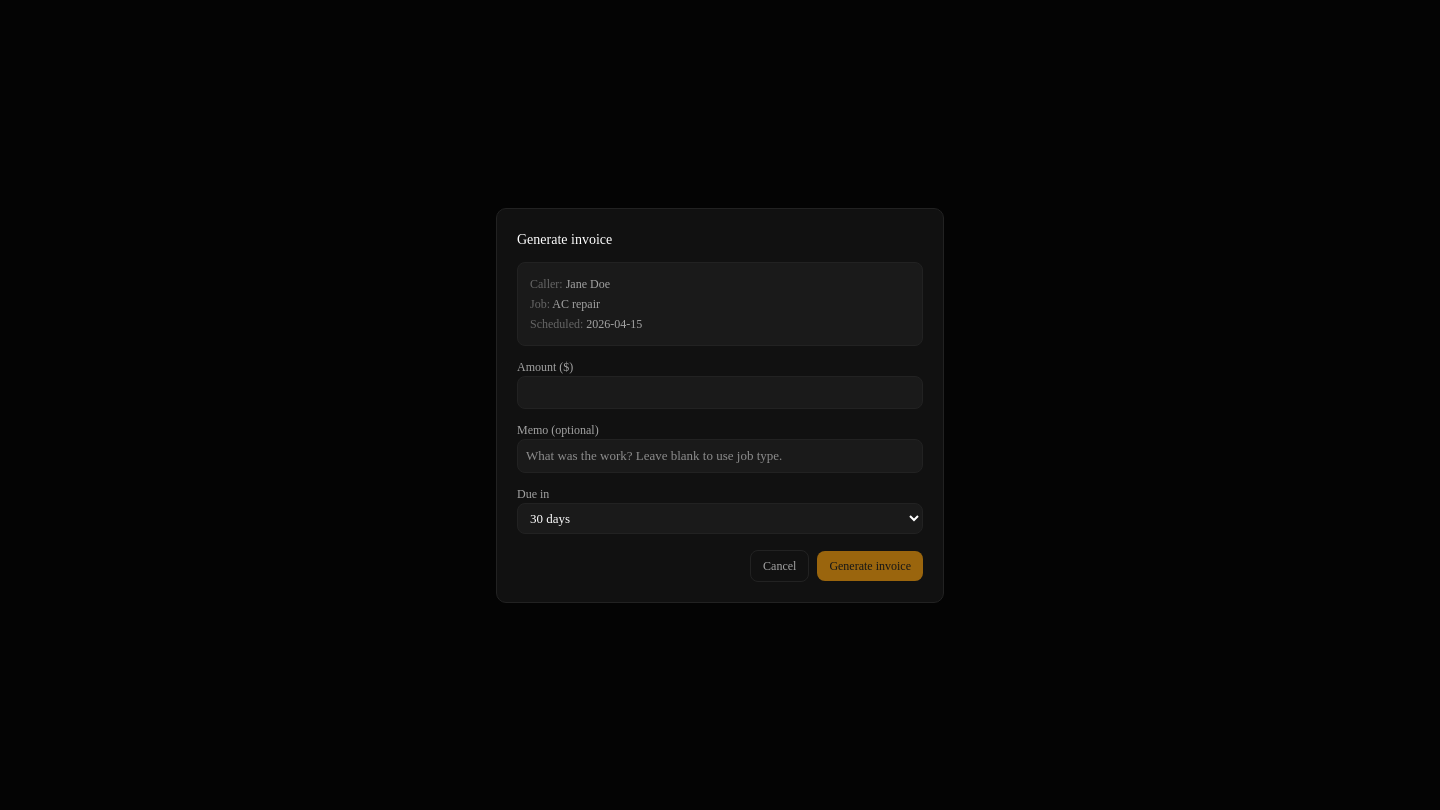
Test: InvoiceModal › shows inline error when bridge returns non-200 and no em dash
Type "100" into the number field labelled "Amount ($)".
click(720, 392); type("100")  # box [517,376,923,409]
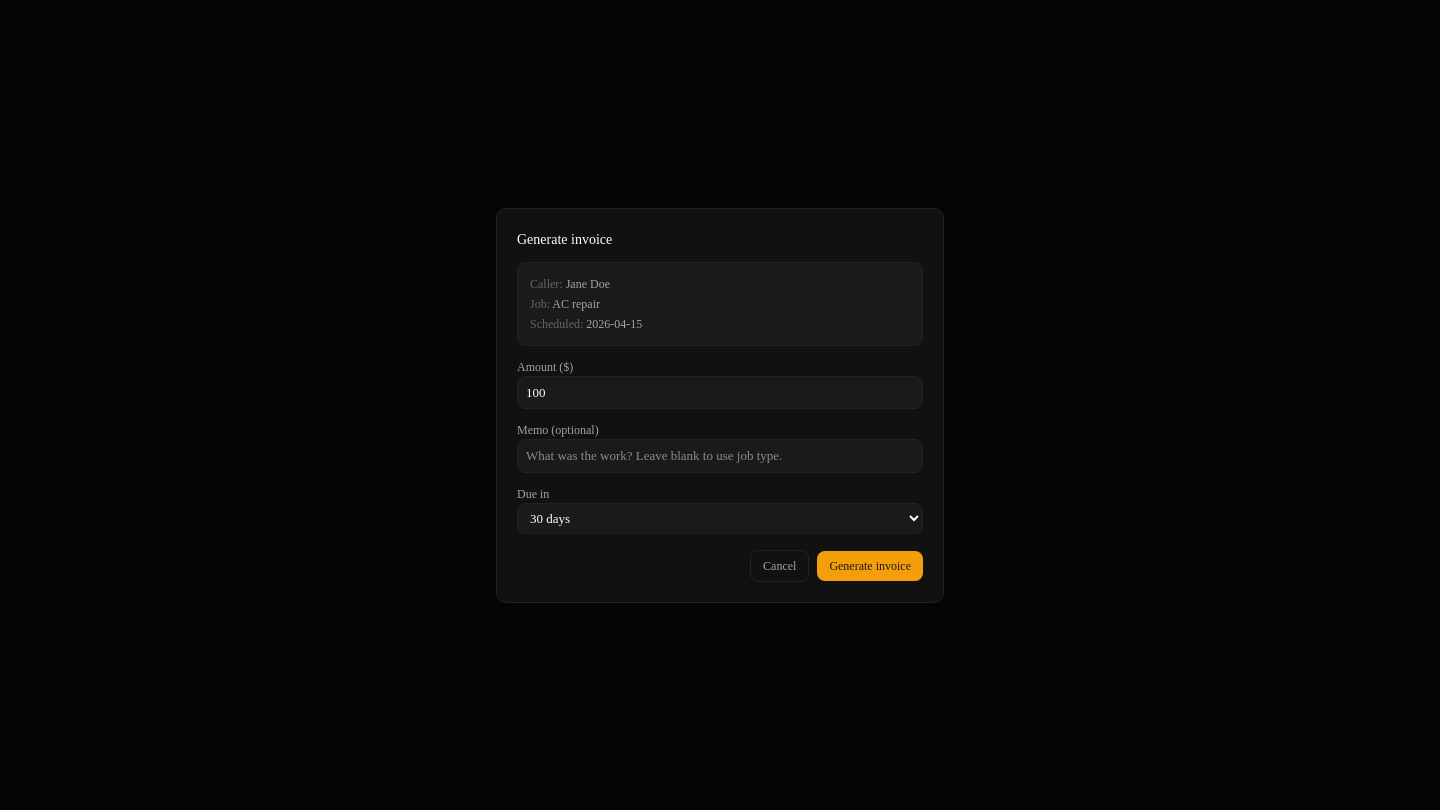
Click the button "Generate invoice".
click(870, 566)  # box [817,550,923,580]
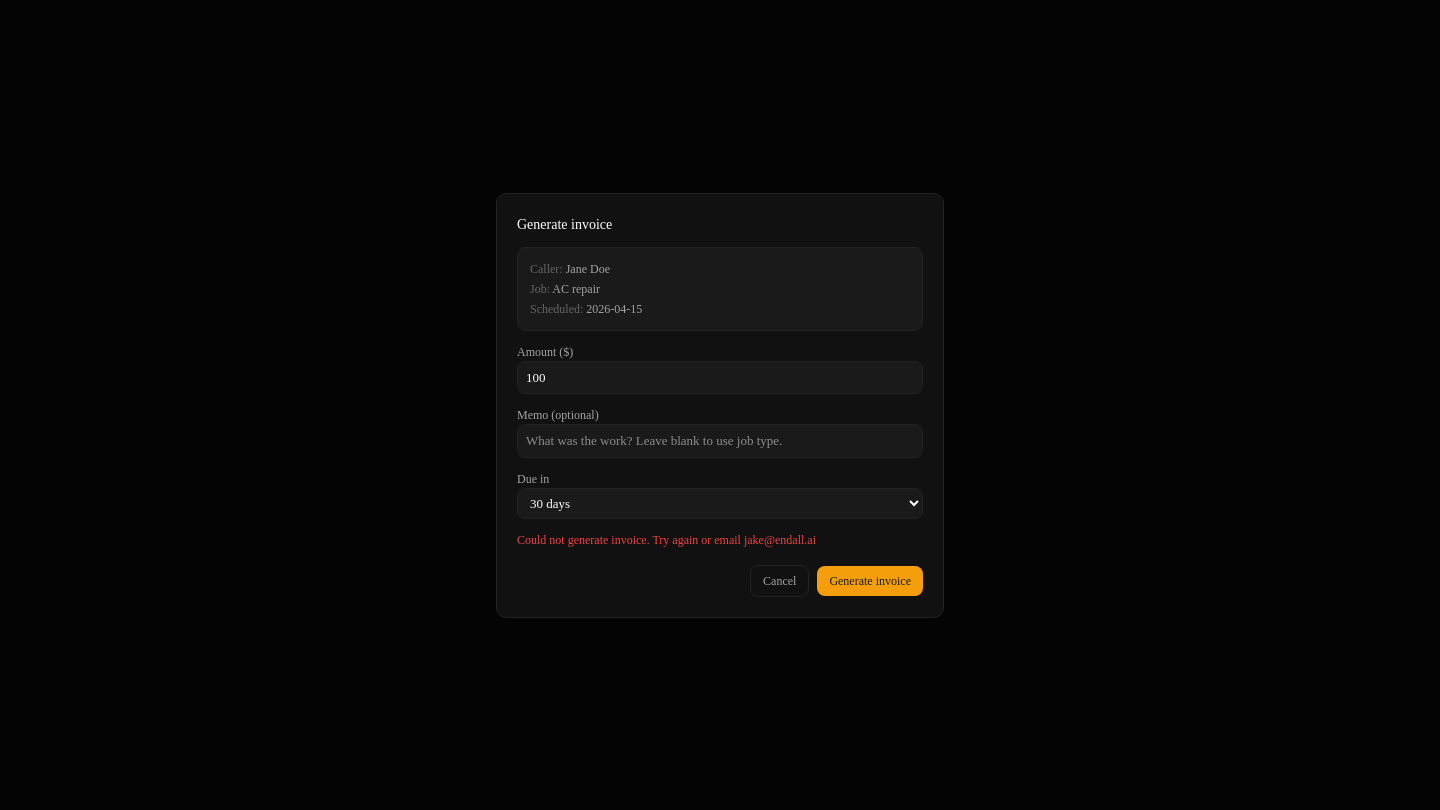
Expected: the message shows "Could not generate invoice", [517,532,816,546]
